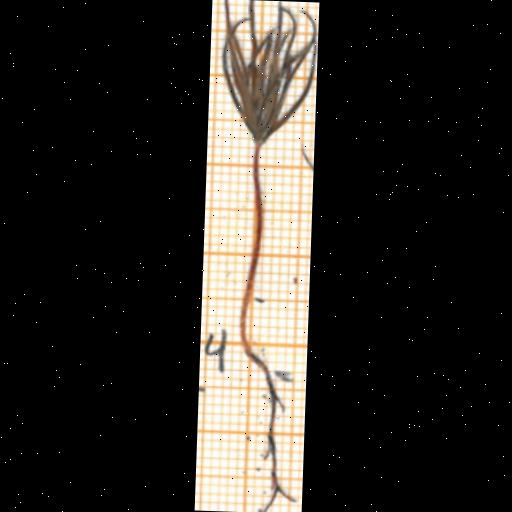flowerPinus: (219, 0, 316, 143)
rootPinus: (243, 349, 294, 511)
stemPinus: (241, 143, 262, 302)
